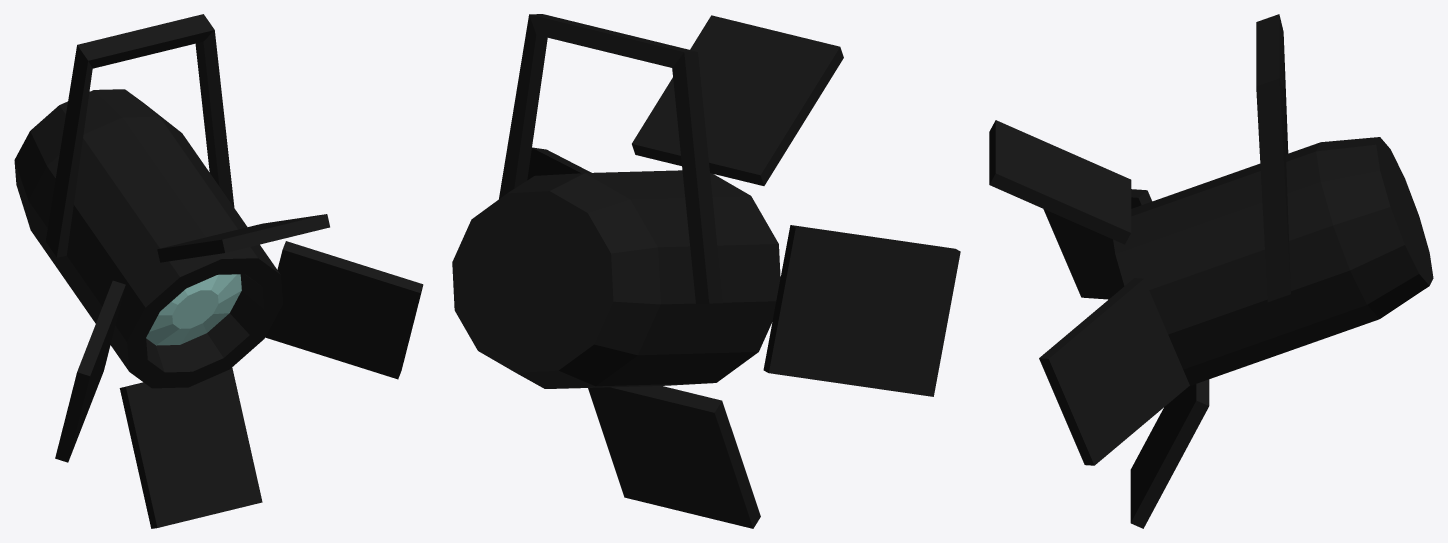
Rendered from Spotlight.fbx.
The picture shows the model from 3 angles, left to right: view 1: azimuth 30°, elevation 25°; view 2: azimuth 150°, elevation 25°; view 3: azimuth 270°, elevation 25°; orthographic projection. The views are drawn at different scales.
Visible parts, largest first — view 1: Cylinder.001; view 2: Cylinder.001; view 3: Cylinder.001.
Part boxes in pixels (x1=…): Cylinder.001: x1=14, y1=14, x2=423, y2=528; Cylinder.001: x1=452, y1=14, x2=960, y2=528; Cylinder.001: x1=989, y1=14, x2=1433, y2=528.
Size of the model in its own units: 205 by 247 by 218.
